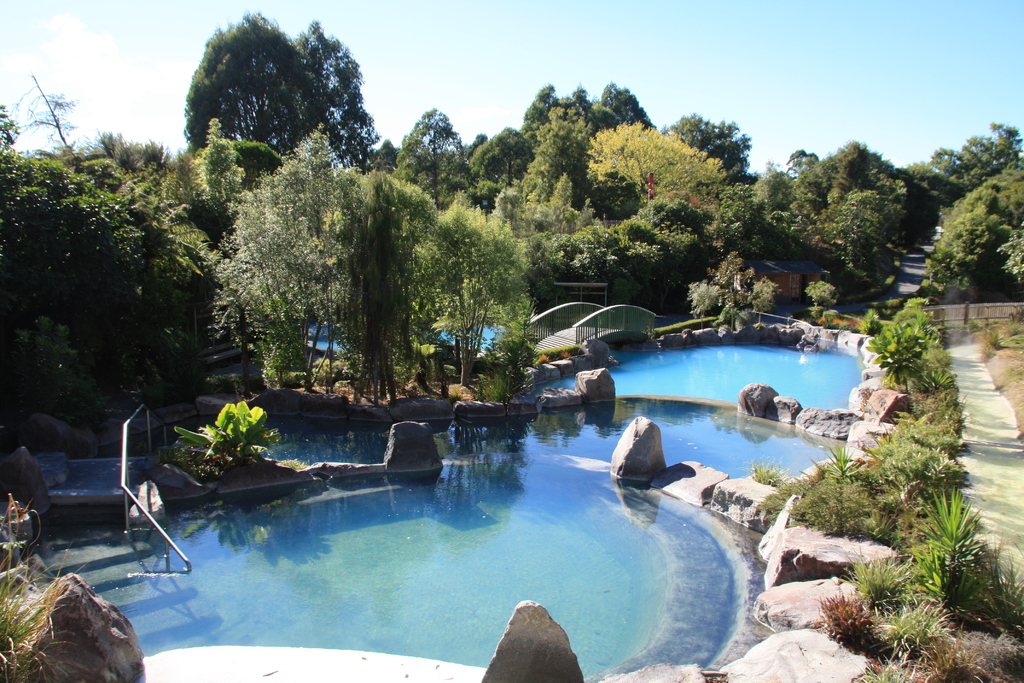Tree: (0, 8, 1024, 406)
